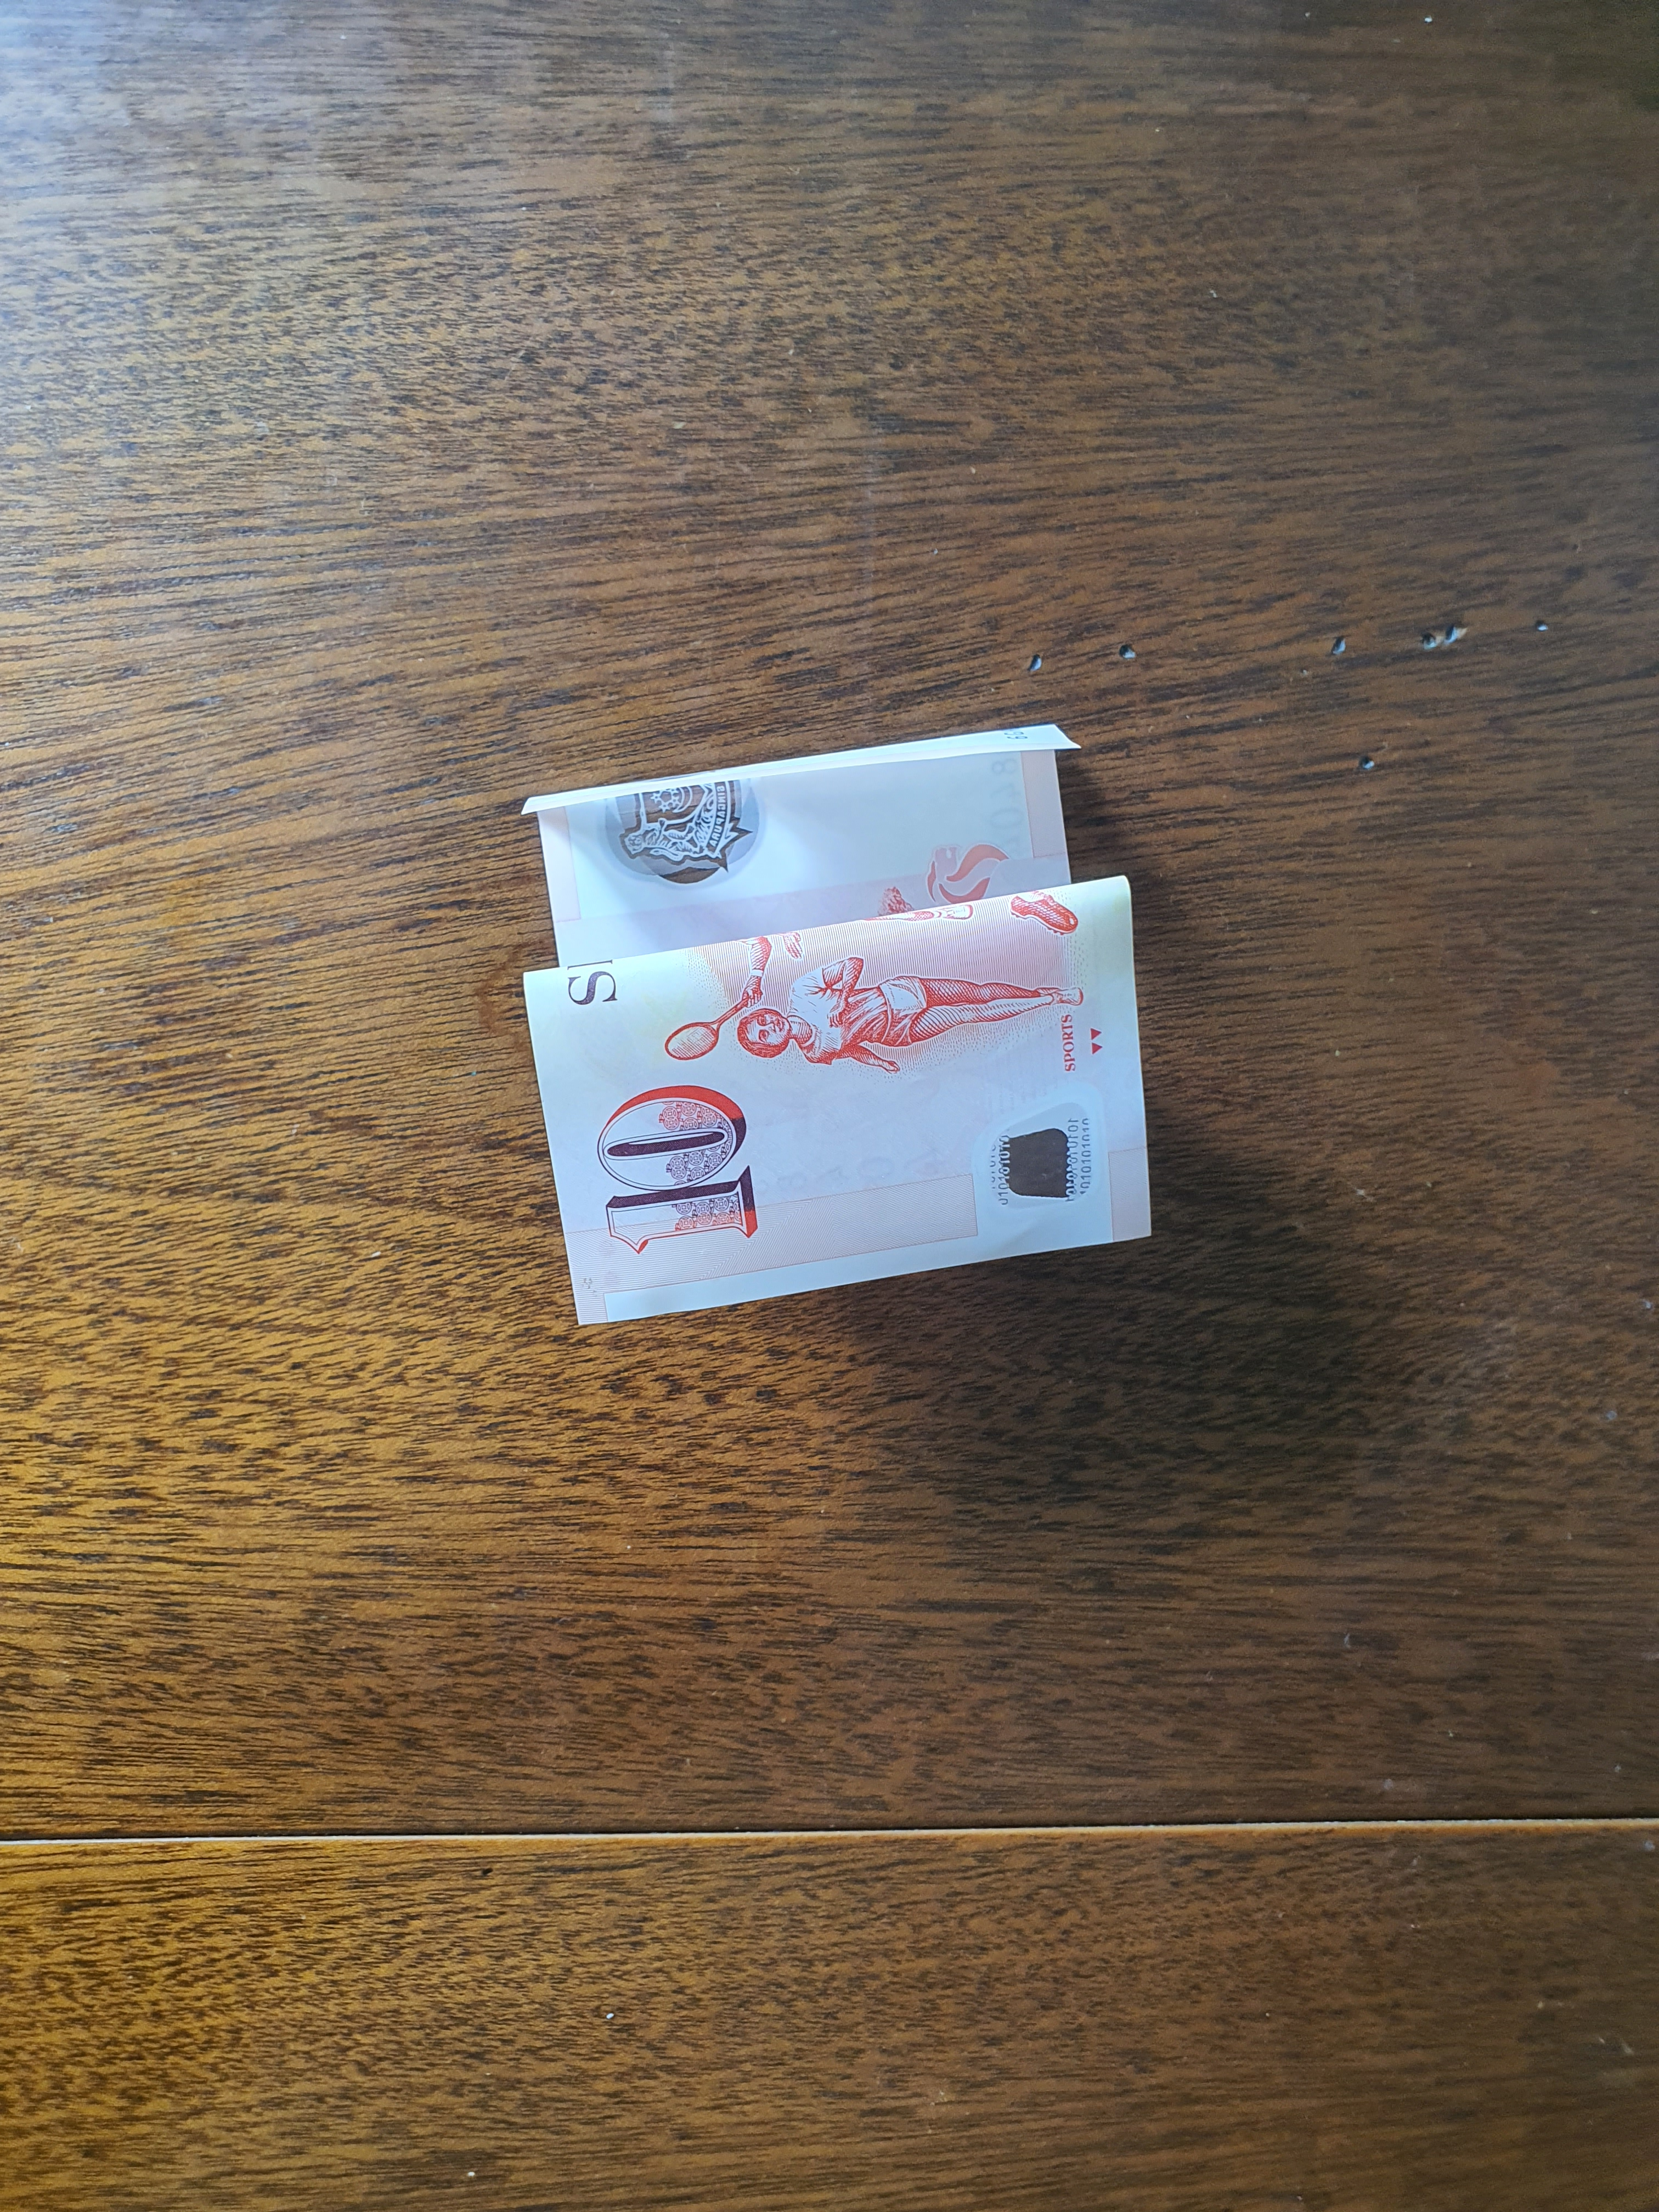$10: (519, 725, 1155, 1327)
